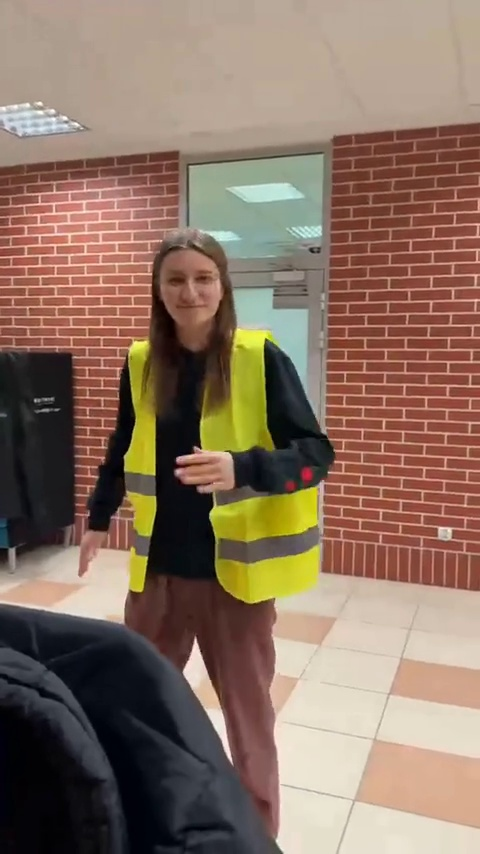vest: (75, 234, 336, 842)
